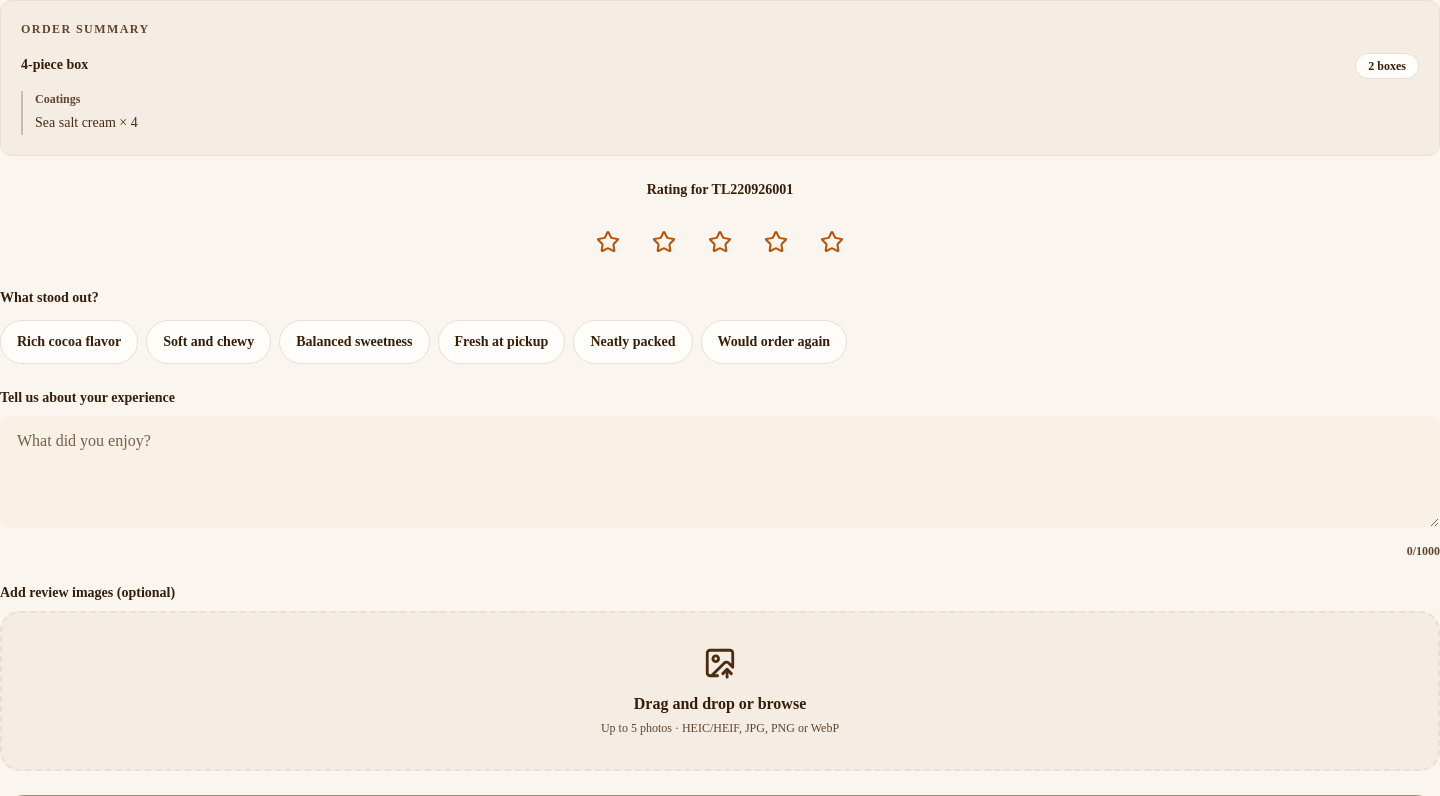
Test: OrderReviewForm › allows a rating-only review and presents structured order details
Check: the text "4-piece box" is shown, box [21, 53, 88, 77]
Check: the text "2 boxes" is shown, box [1355, 53, 1419, 79]
Click the button named "5 star rating".
click(832, 242)  # box [810, 220, 854, 264]
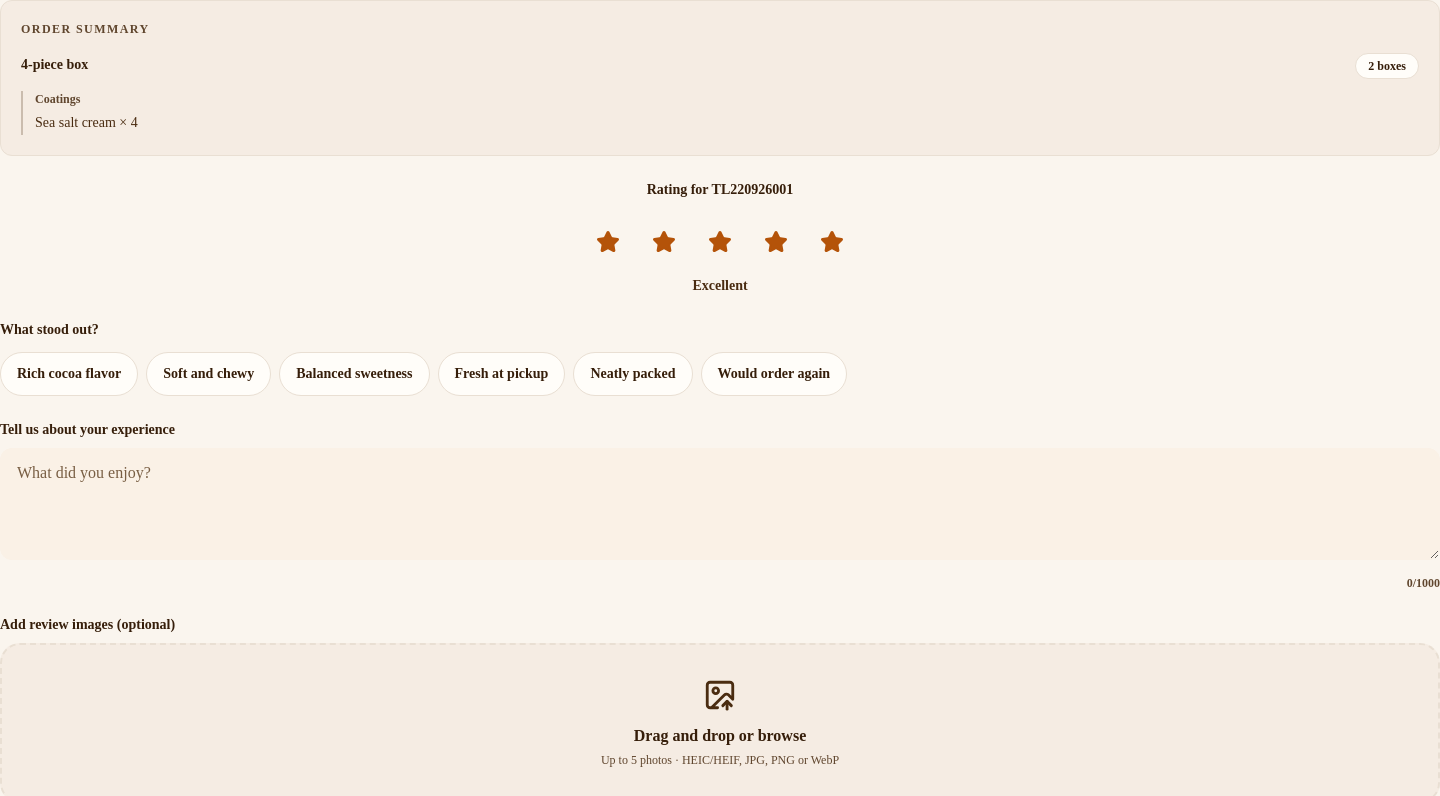
Check: the checkbox labelled "Rich cocoa flavor" is shown, box [0, 352, 138, 396]
Check: the text "Excellent" is shown, box [692, 278, 748, 293]
